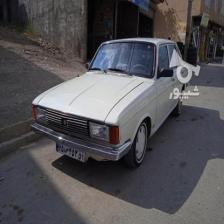plate: (56, 141, 85, 164)
